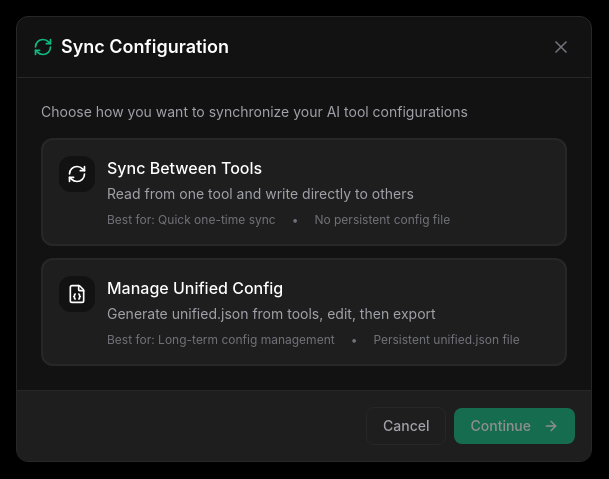
Scenario: SyncModeDialog › Mode Selection › should select direct-sync mode when clicked
Click the heading "Sync Between Tools" at {"x": 185, "y": 168}, box [107,156,262,180]
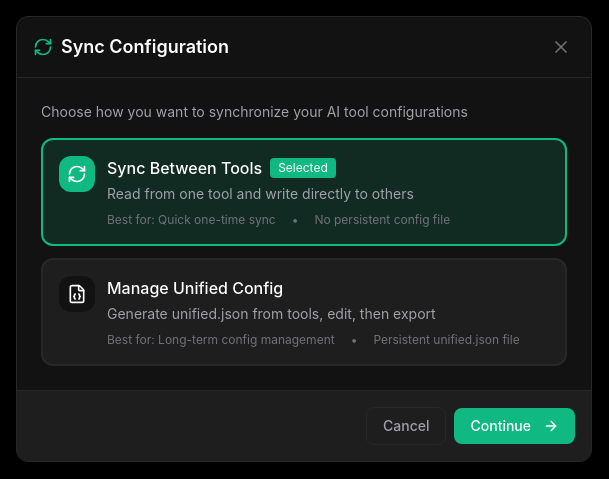
Result: the text "Selected" is shown once at [270,158,336,178]
